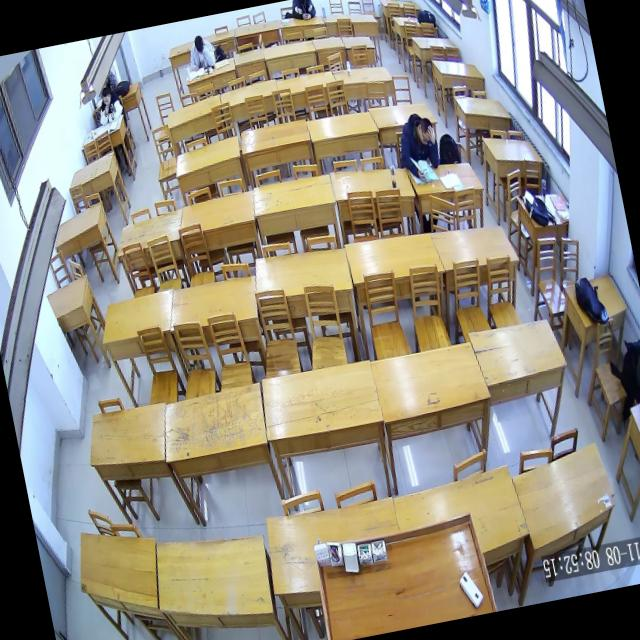down: (416, 116, 436, 146), (192, 34, 206, 56), (101, 86, 113, 107)
sit: (393, 110, 444, 184), (93, 84, 127, 126), (185, 32, 218, 72)
